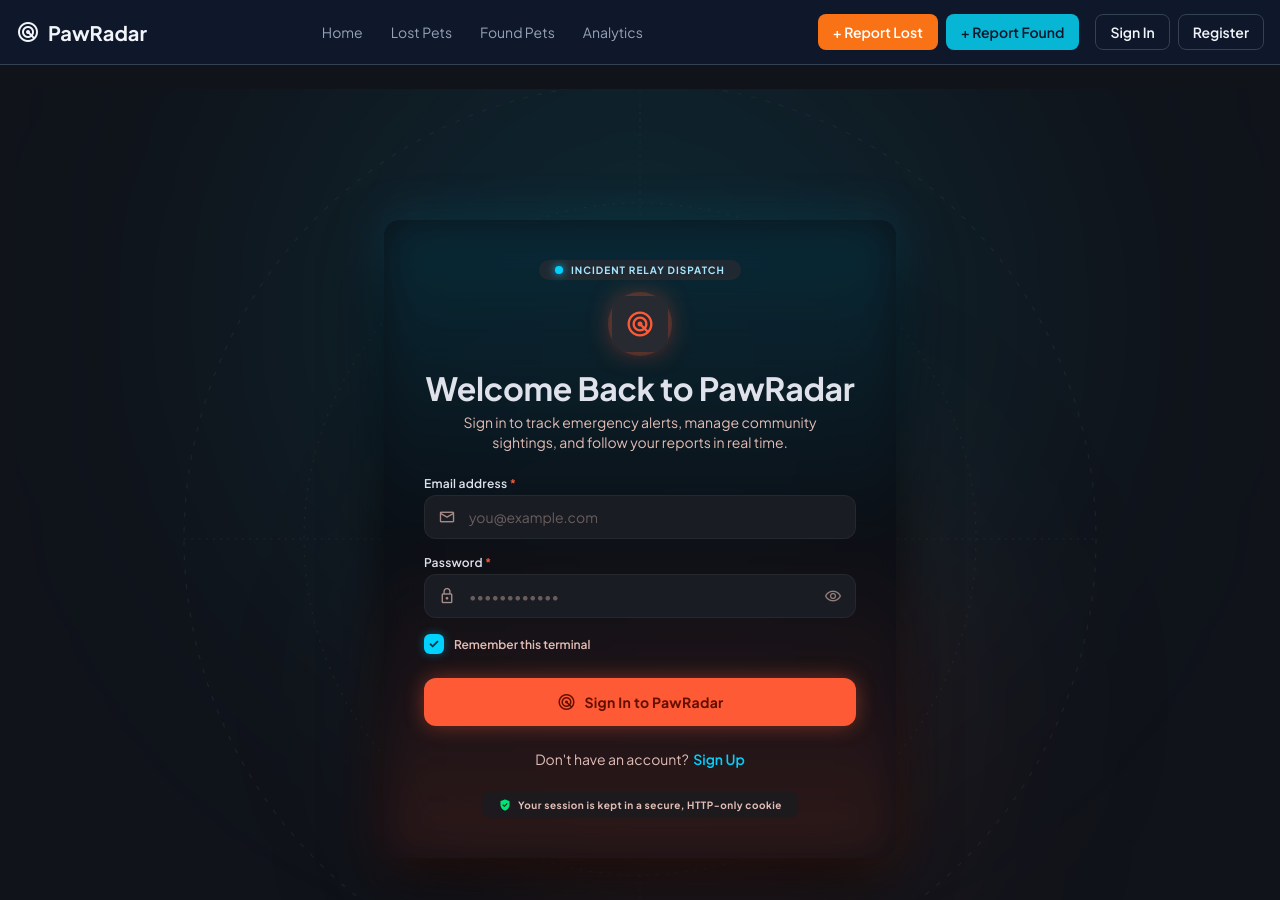
Test: ProtectedRoute › returns to the protected page after signing in
Type "sam@example.com" into the field labelled "Email address *".
click(640, 517); type("sam@example.com")  # box [424,495,856,539]
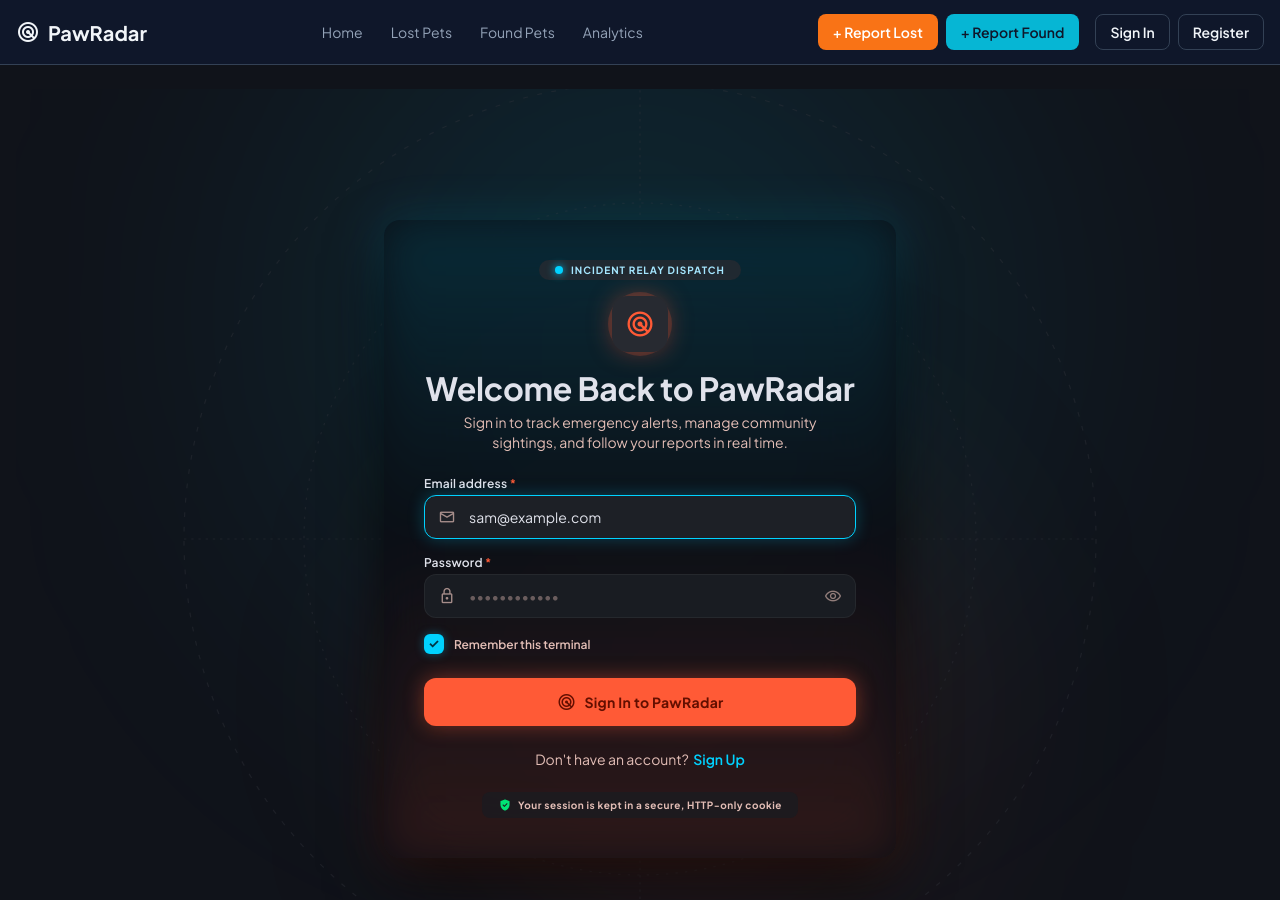
Type "correct-horse-1" into the password field labelled "Password *".
click(640, 596); type("correct-horse-1")  # box [424,574,856,618]
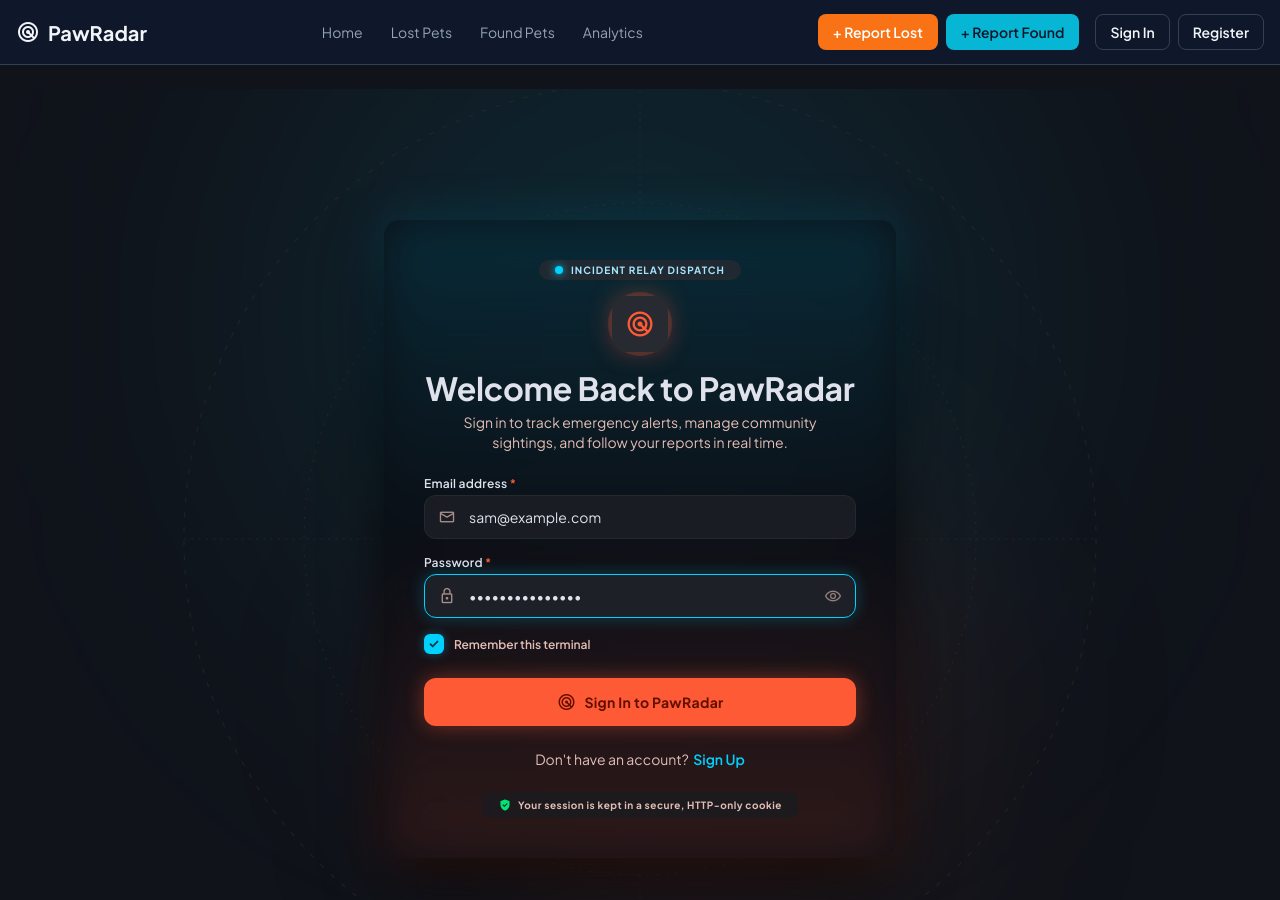
Click the button "Sign In to PawRadar".
click(640, 702)  # box [424,678,856,726]
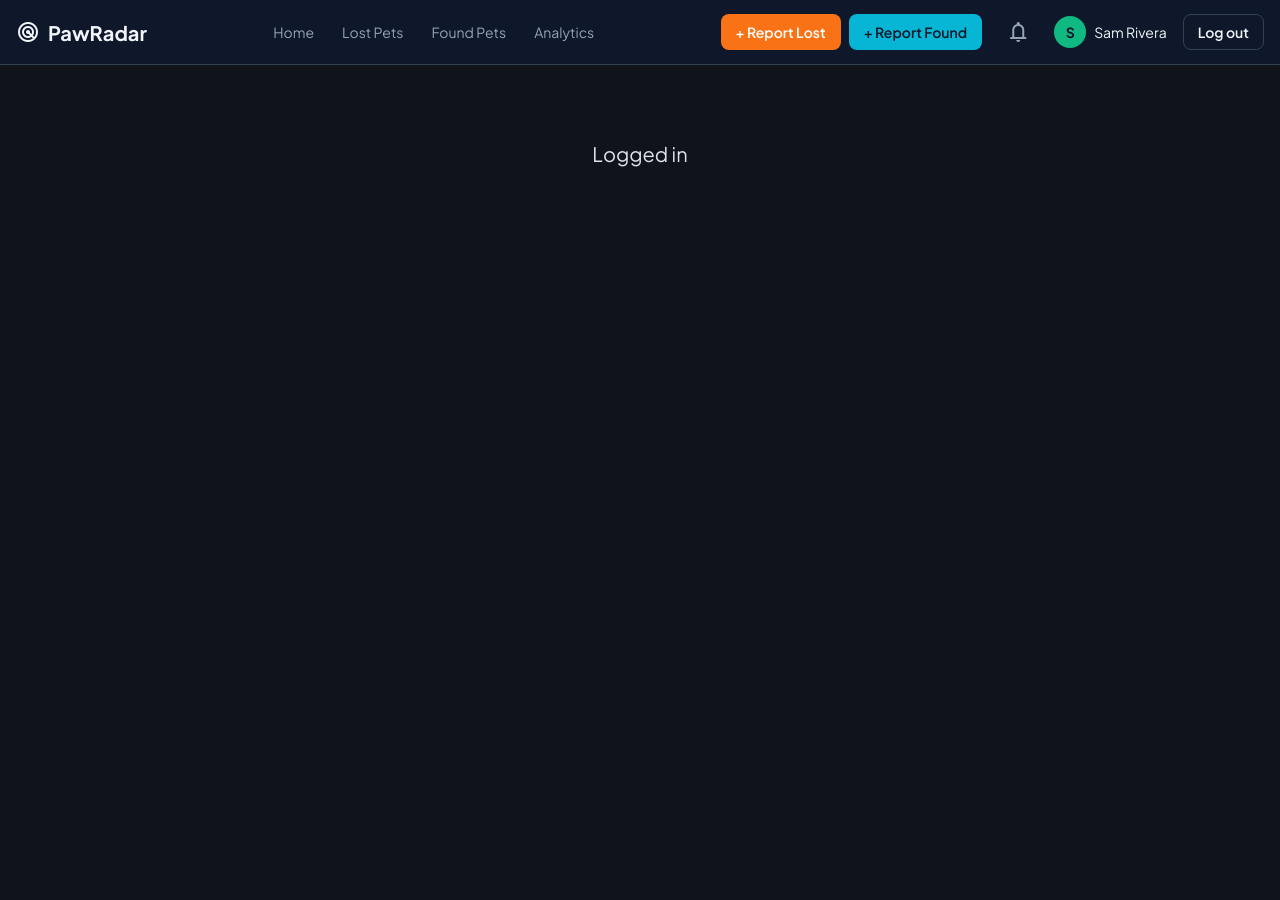
Now the text "Logged in" is shown, box [592,141,688,166]
